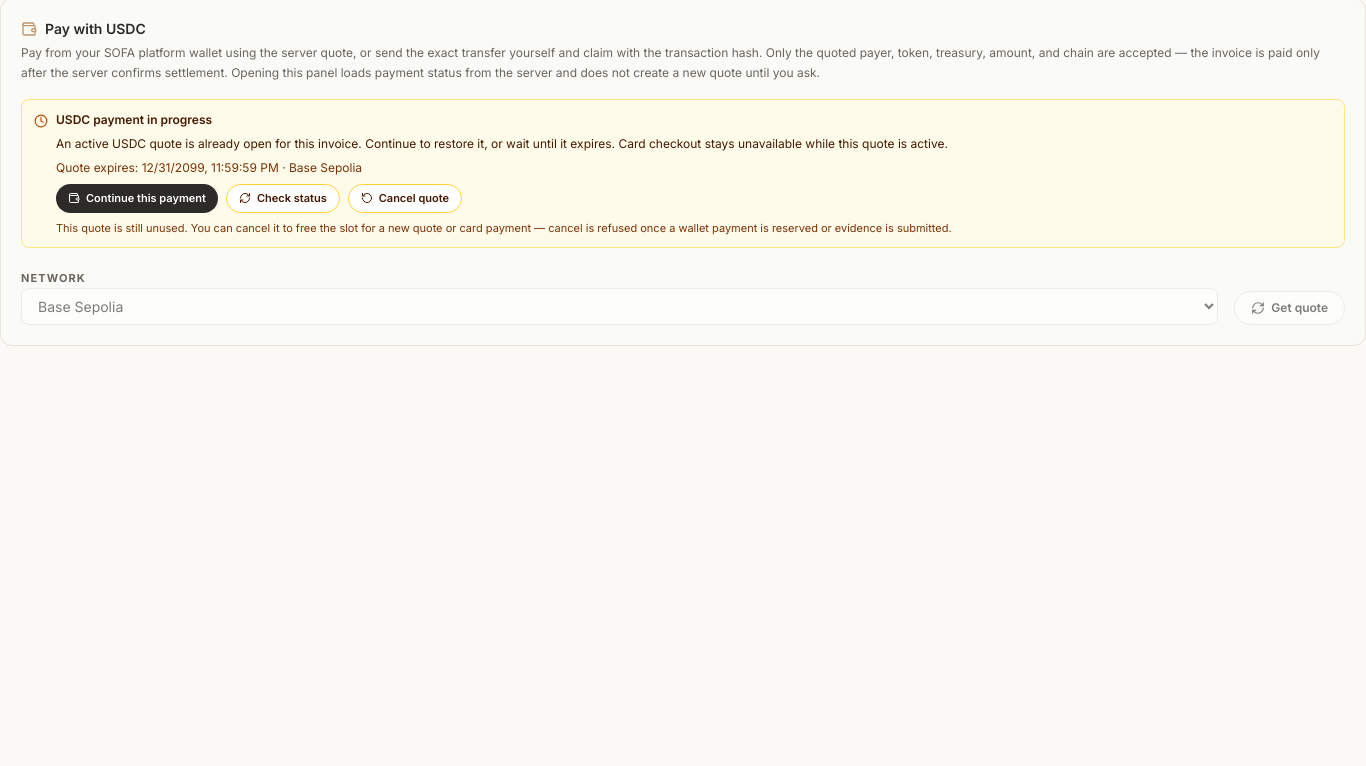
Test: UsdcPaymentPanel — BILL-018 invoice payment status recovery › shows continue entry for an active pending USDC quote without auto-quoting
This screenshot has width=1366, height=766.
Check: the text "USDC payment in progress" is shown, box [56,112,212,127]
Click the button "Continue this payment": click(137, 198) [56,184,218,213]
(page scrolled)
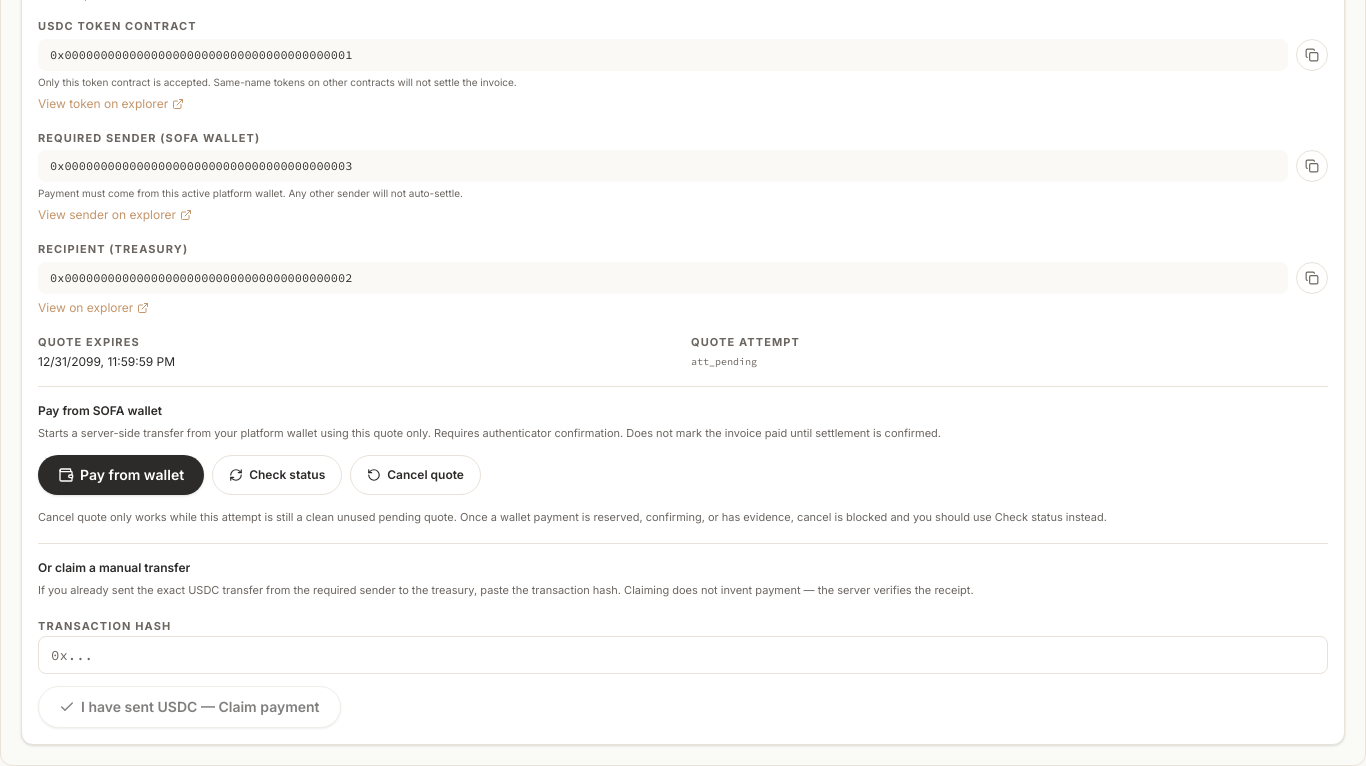
Check: the field labelled "Transaction hash" is shown, box [38,636,1328,674]
